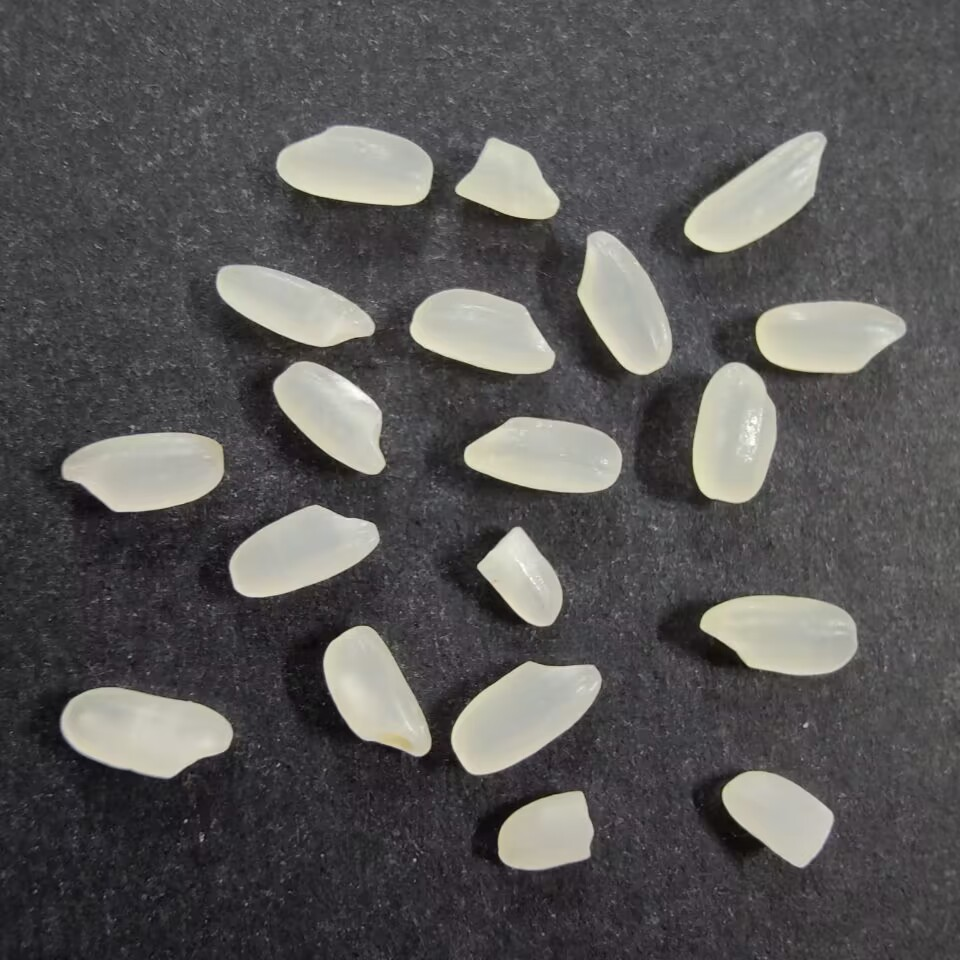broken: (719, 768, 837, 871), (471, 523, 568, 631), (454, 134, 561, 224), (493, 787, 595, 875)
rice: (449, 656, 604, 779), (682, 127, 832, 254), (58, 684, 234, 783), (226, 500, 381, 602), (318, 622, 432, 758), (573, 226, 676, 376), (694, 592, 861, 680), (270, 357, 390, 478), (268, 122, 436, 208), (210, 263, 377, 349), (459, 414, 628, 498), (57, 430, 225, 514), (688, 355, 780, 507), (405, 286, 558, 377), (752, 298, 906, 377)
